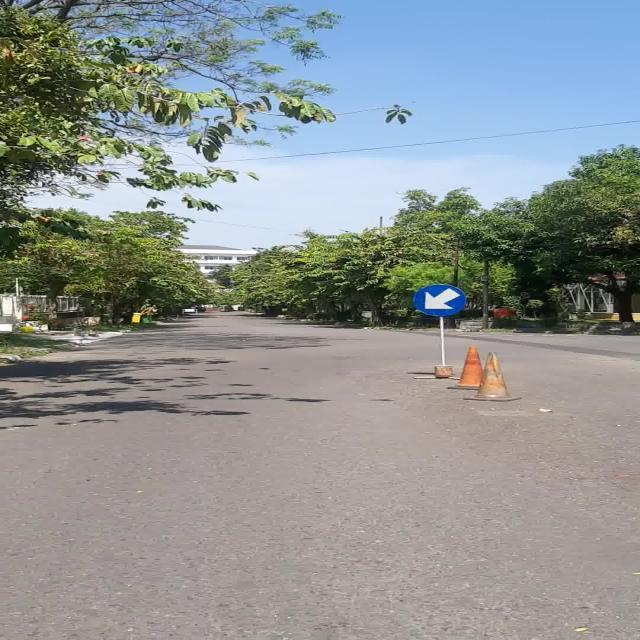Lajur Kiri: (412, 284, 466, 316)
